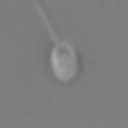normal: (29, 1, 62, 44)
